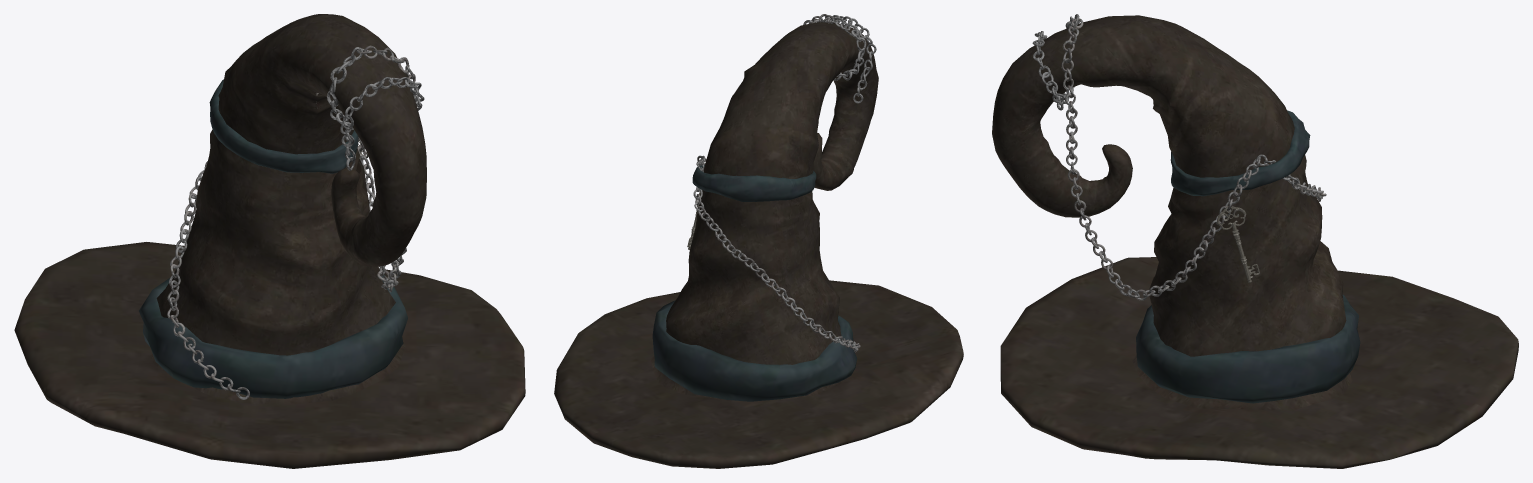
File: hat-transformed.glb
The picture shows the model from 3 angles, left to right: view 1: azimuth 30°, elevation 25°; view 2: azimuth 150°, elevation 25°; view 3: azimuth 270°, elevation 25°; orthographic projection. The views are drawn at different scales.
Visible parts, largest first — view 1: Hat_low, Belt_02_low, Chain_01_low, Belt_01_low, Chain_02_low; view 2: Hat_low, Belt_02_low, Belt_01_low, Chain_01_low, Chain_02_low; view 3: Hat_low, Belt_02_low, Chain_01_low, Belt_01_low, Chain_02_low, Key_low.
Part boxes in pixels (<box>): Hat_low: <box>14,14,525,468</box>; Belt_02_low: <box>139,269,407,398</box>; Chain_01_low: <box>167,45,418,399</box>; Belt_01_low: <box>209,79,358,173</box>; Chain_02_low: <box>327,47,424,170</box>; Hat_low: <box>554,22,963,468</box>; Belt_02_low: <box>652,300,857,401</box>; Belt_01_low: <box>692,165,816,201</box>; Chain_01_low: <box>693,14,860,352</box>; Chain_02_low: <box>823,15,876,103</box>; Hat_low: <box>992,15,1518,468</box>; Belt_02_low: <box>1136,294,1360,403</box>; Chain_01_low: <box>1061,18,1326,300</box>; Belt_01_low: <box>1170,110,1310,196</box>; Chain_02_low: <box>1032,14,1080,110</box>; Key_low: <box>1217,206,1259,282</box>.
Bounding box in the file's own units: 1.72 × 1.54 × 2.
1 material, 1 textured.
